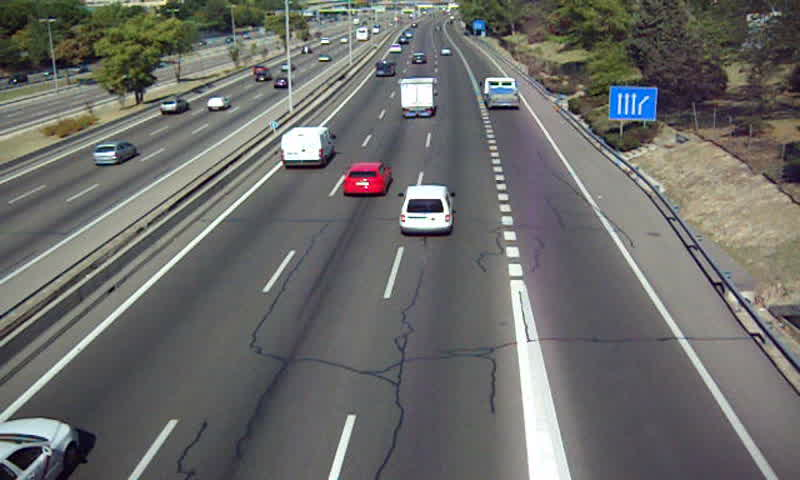car: (397, 184, 453, 232), (341, 162, 393, 195), (411, 51, 427, 66)
small-truck: (399, 78, 436, 117), (482, 76, 518, 109)
van: (280, 127, 333, 165), (374, 60, 396, 80)
